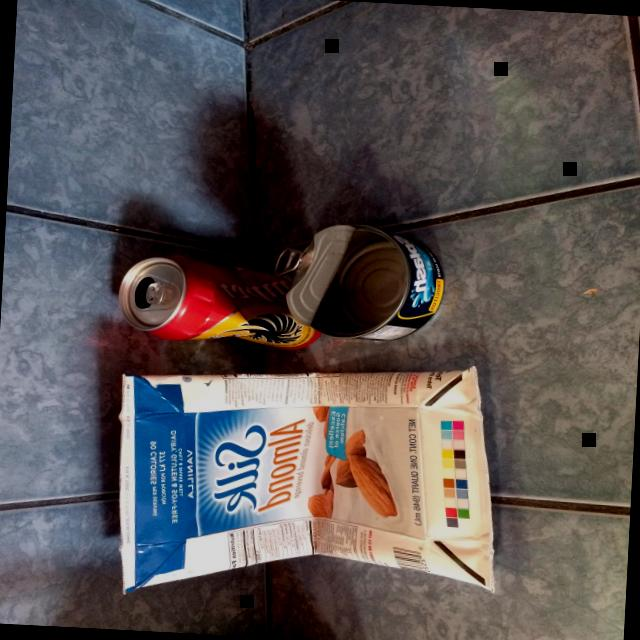Drink can: (118, 255, 320, 350)
Drink carton: (118, 366, 494, 594)
Food Can: (273, 224, 443, 341)
Pop tab: (273, 247, 302, 275), (145, 282, 162, 304)
